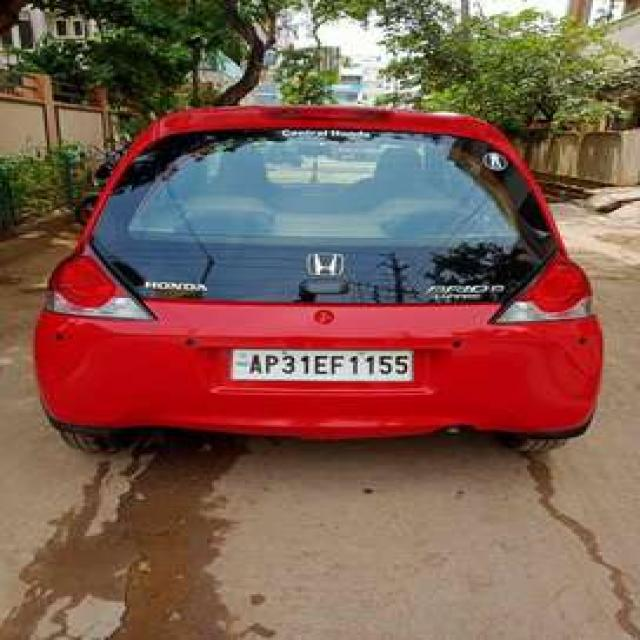Plate: (229, 347, 408, 380)
